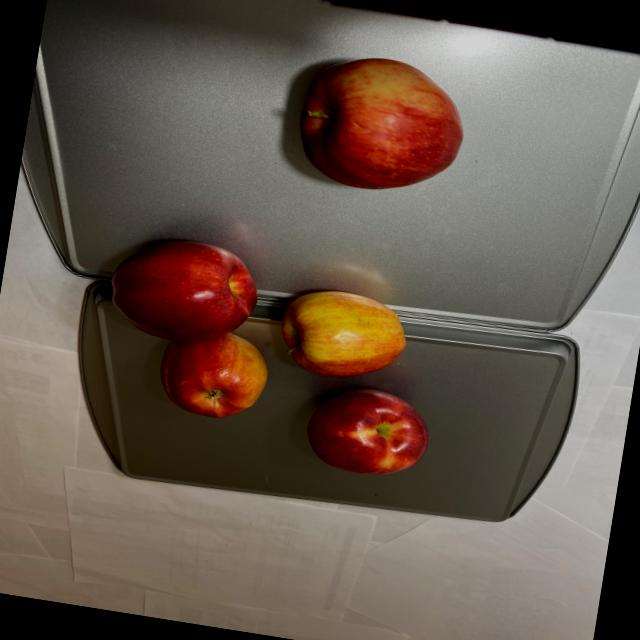apple: (84, 227, 457, 484), (291, 46, 478, 204)
